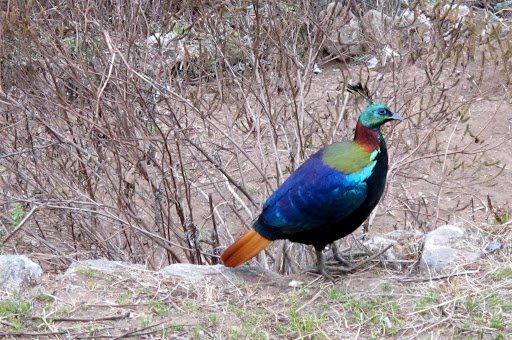bird: (217, 92, 422, 287)
